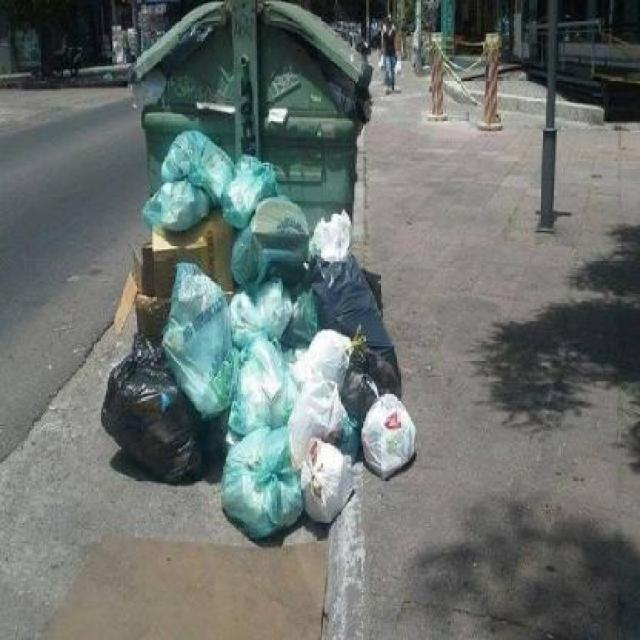garbage: (125, 129, 390, 540)
